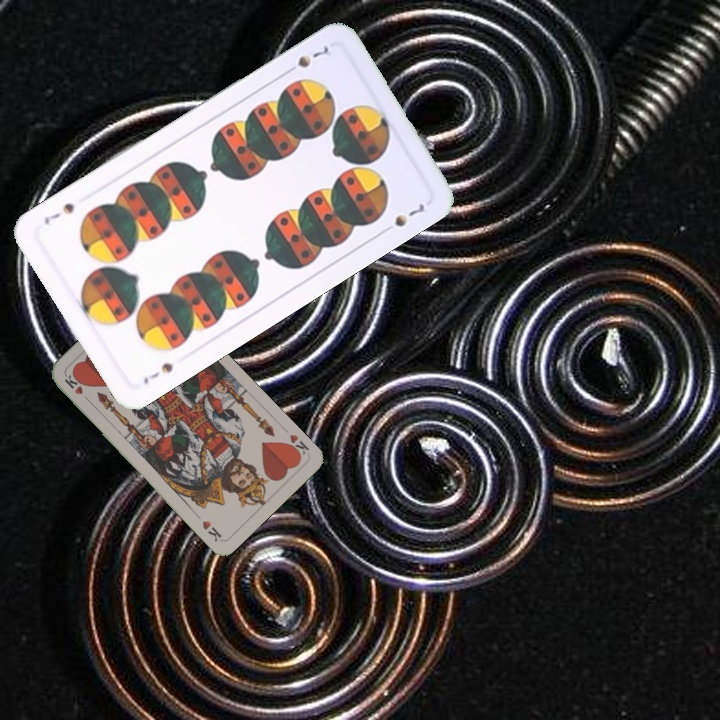HK: (61, 370, 94, 405), (282, 430, 312, 461)
S7: (281, 42, 332, 77), (139, 358, 176, 387)
